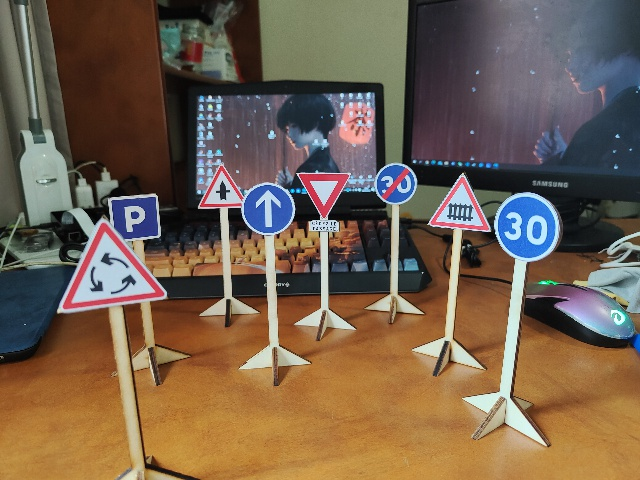P: (109, 196, 163, 240)
ban: (375, 162, 416, 204)
cycle: (55, 221, 168, 309)
first: (197, 164, 249, 210)
second: (294, 169, 352, 231)
straight: (241, 182, 296, 234)
thirty: (493, 190, 561, 262)
train: (426, 169, 489, 230)
